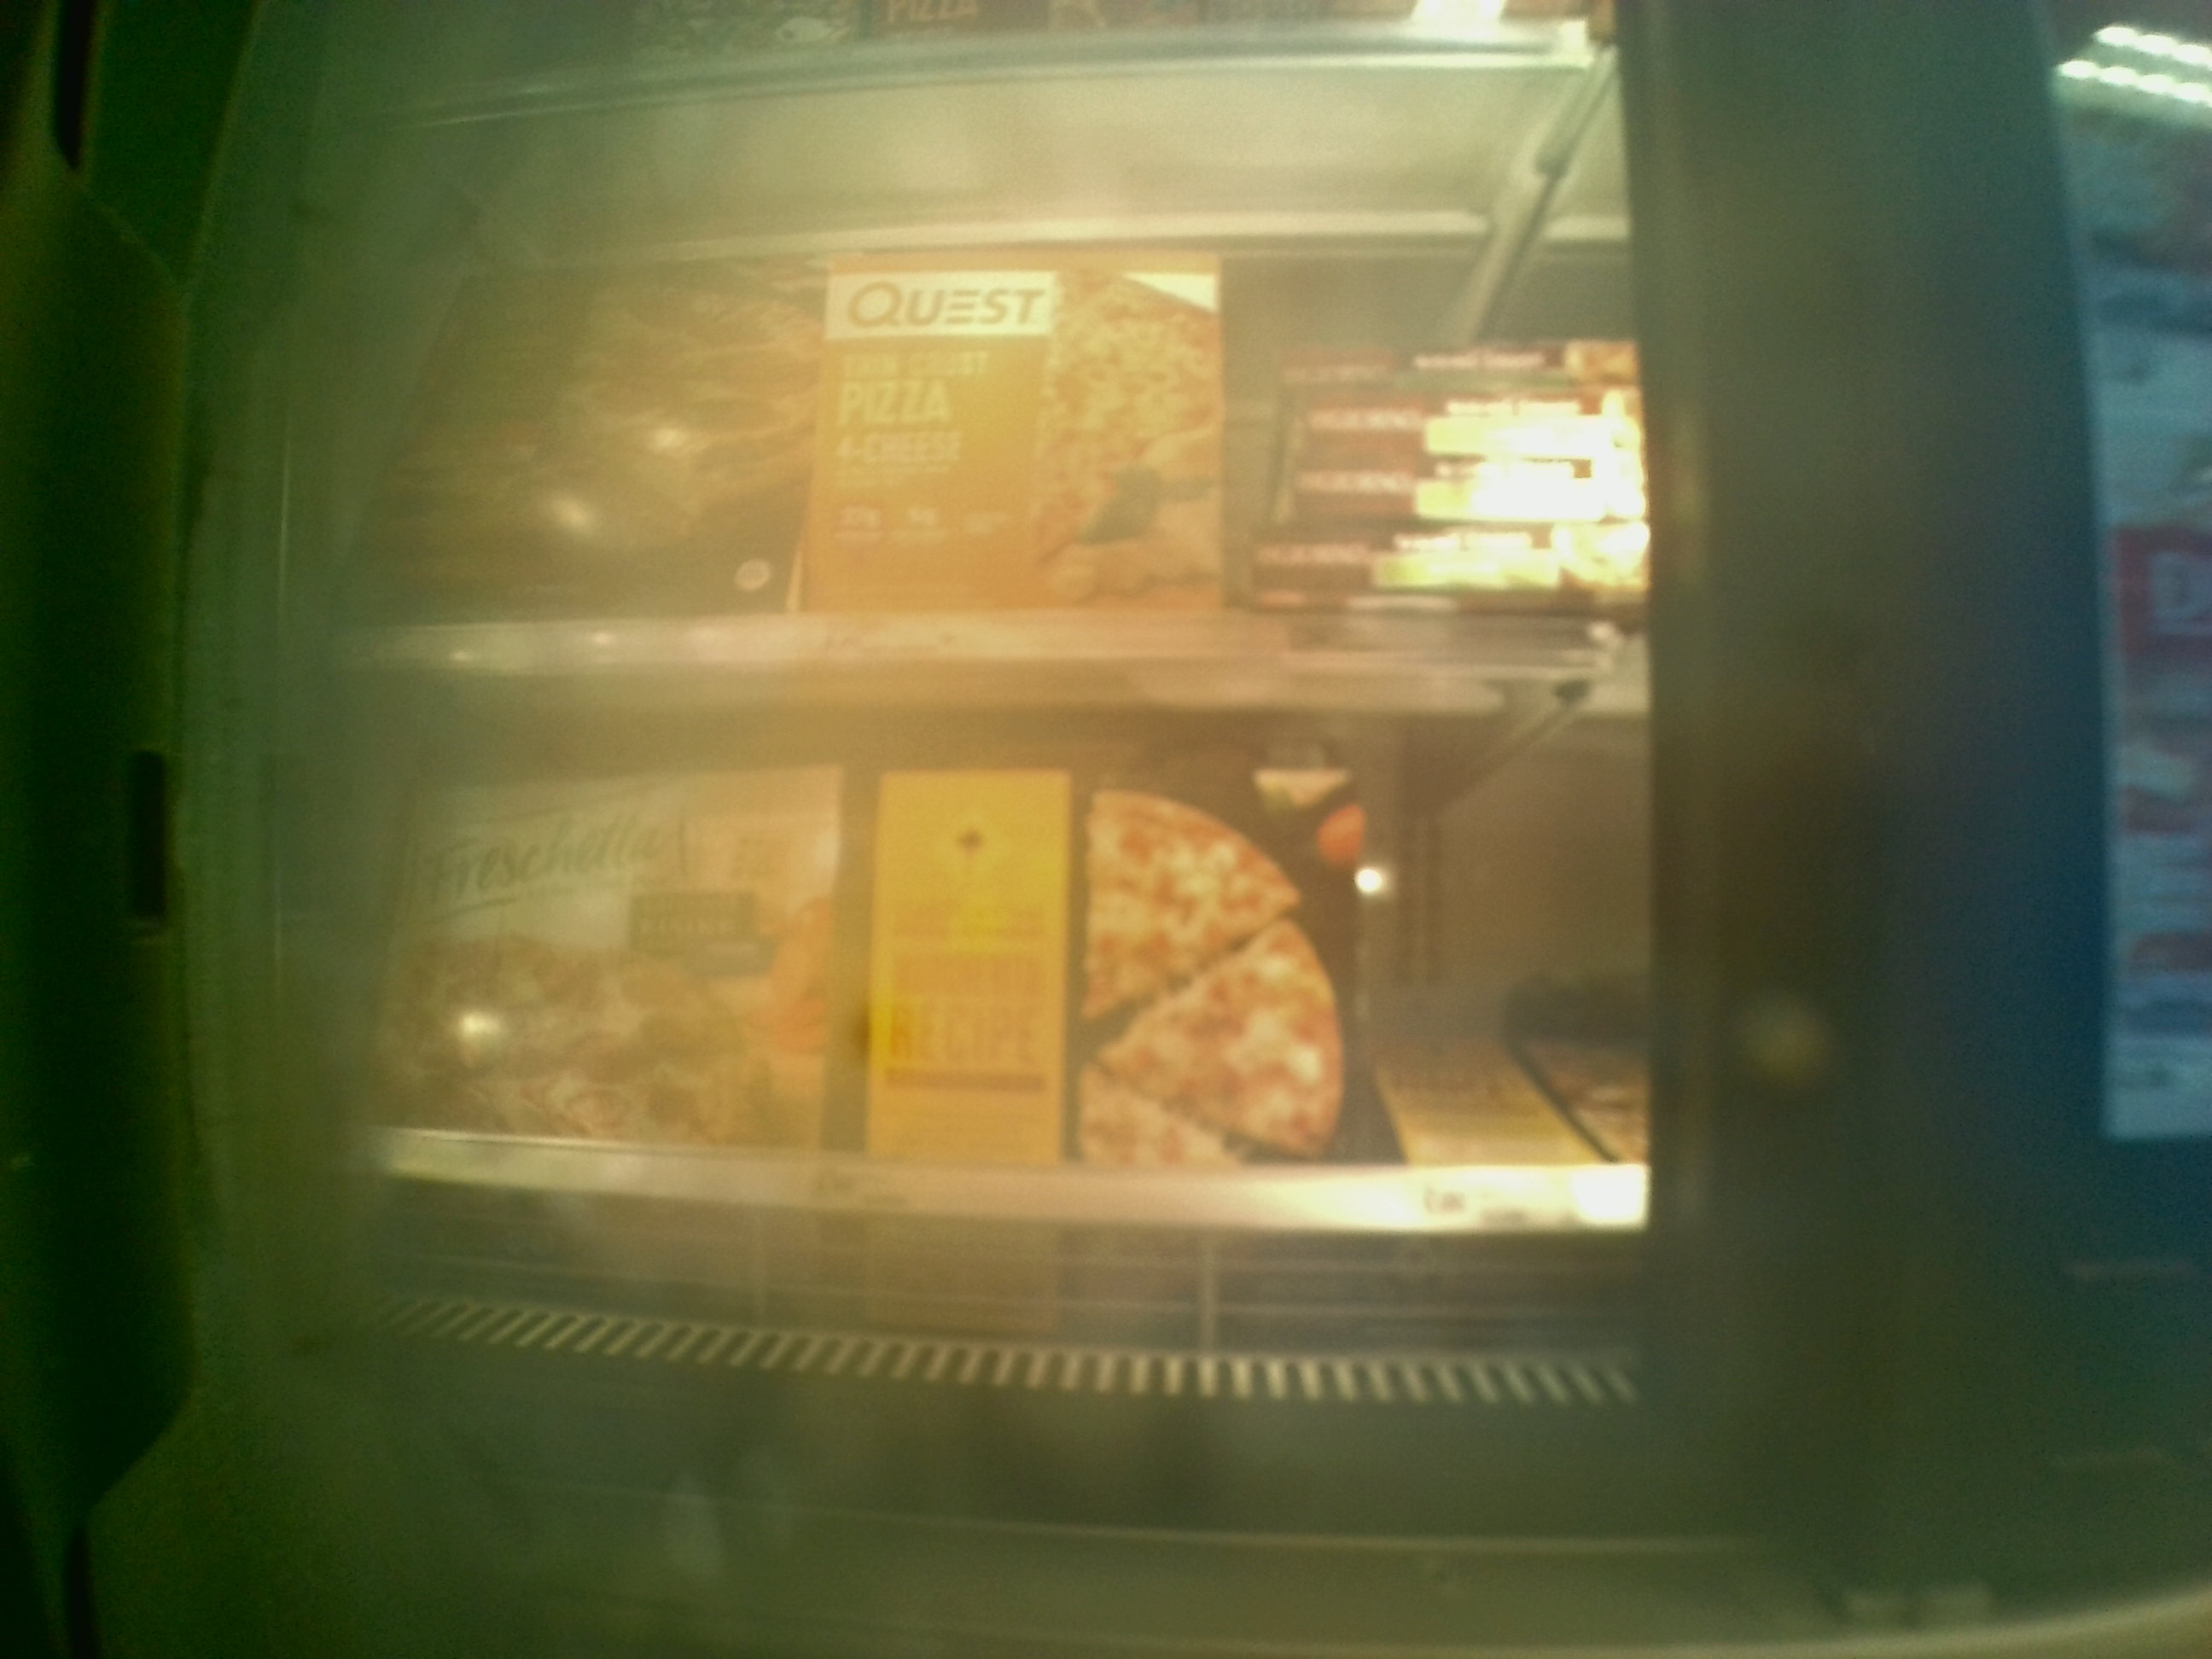shelf: (350, 653, 1742, 1399)
